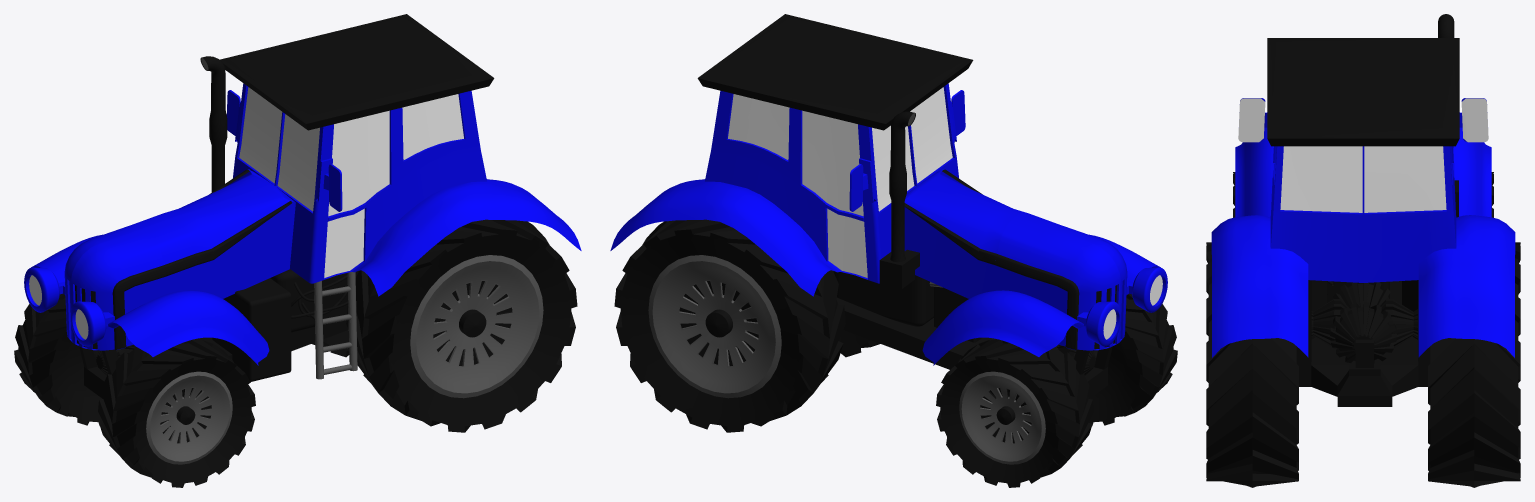
The model's file is mtz_traktor.glb.
3 views of the same model, side by side, from view 1: azimuth 30°, elevation 25°; view 2: azimuth 150°, elevation 25°; view 3: azimuth 270°, elevation 25° (orthographic). The views are drawn at different scales.
Visible parts, largest first — view 1: the basis, wheels_2, wheels_1; view 2: the basis, wheels_2, wheels_1; view 3: the basis, wheels_2.
Boxes of the visible parts, x1,y1,x2,y2 form: the basis: [24, 14, 581, 417]; wheels_2: [311, 219, 577, 432]; wheels_1: [14, 293, 255, 487]; the basis: [610, 14, 1167, 417]; wheels_2: [614, 219, 880, 432]; wheels_1: [936, 293, 1177, 487]; the basis: [1211, 14, 1515, 406]; wheels_2: [1206, 242, 1520, 487].
Bounding box in the file's own units: 2.33 × 1.66 × 1.27.
